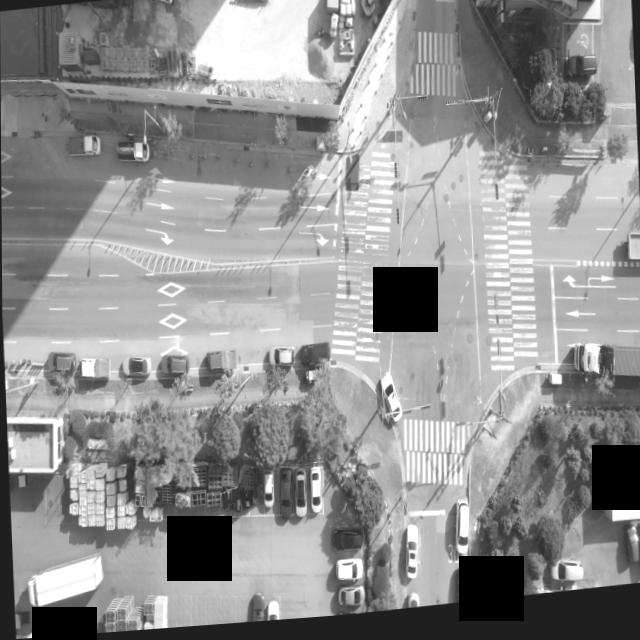car: (379, 376, 401, 429), (563, 60, 596, 87), (453, 507, 469, 562), (298, 346, 330, 373), (330, 534, 360, 561), (550, 566, 583, 590), (120, 355, 150, 380), (403, 532, 417, 585), (277, 473, 292, 522), (47, 351, 75, 376), (157, 355, 185, 380), (268, 347, 295, 372), (291, 475, 305, 523), (335, 564, 362, 588), (309, 472, 322, 519), (625, 533, 639, 574), (338, 594, 363, 615), (455, 574, 469, 609), (249, 595, 262, 626), (261, 477, 272, 512), (263, 605, 276, 625), (406, 598, 418, 614), (638, 531, 640, 580)
large_truck: (570, 346, 640, 398)
medium_truck: (27, 556, 106, 609), (625, 239, 640, 276), (137, 0, 172, 10)
small_truck: (205, 349, 239, 376), (115, 141, 150, 167), (77, 356, 110, 383), (66, 134, 99, 160)
